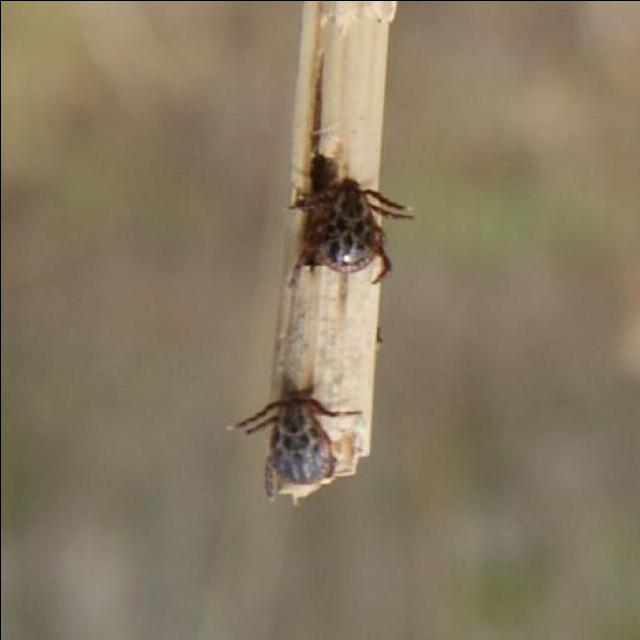Dermacentor Reticulatus-M: (232, 392, 361, 499), (290, 177, 413, 283)
